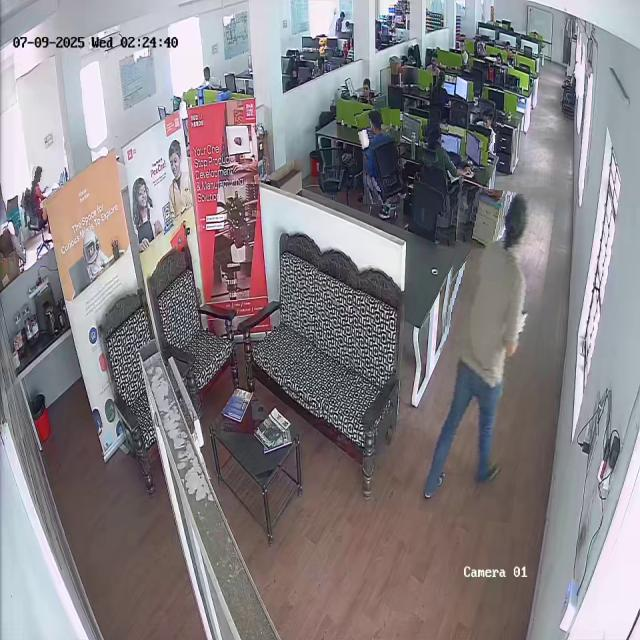person: (429, 188, 545, 521), (358, 108, 404, 205), (422, 121, 466, 212), (24, 165, 54, 219), (473, 108, 504, 153)
